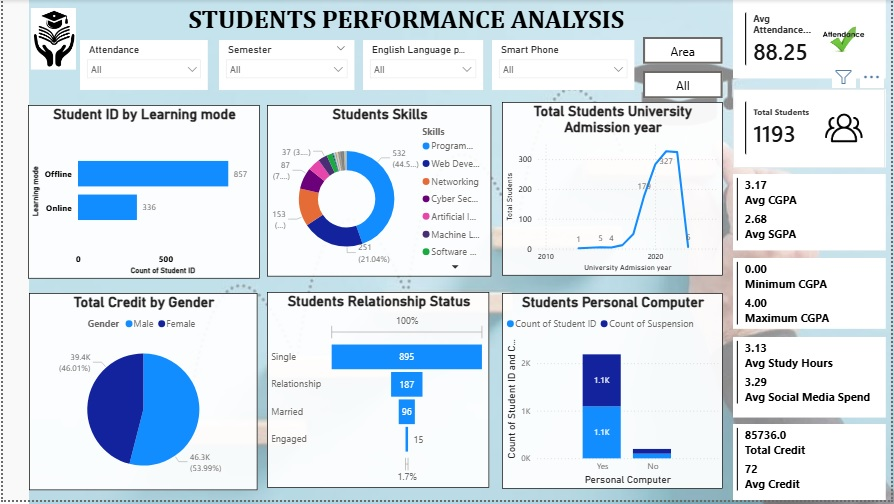

What the dashboard file says about the page in this screenshot:
{"tool":"powerbi","page":{"name":"Dashboard","canvas":[1280,720],"ordinal":3},"visuals":[{"type":"textbox","box":[262.1,0,682.6,57.6],"z":0},{"type":"image","box":[23.4,11.7,99.5,89.3],"z":1000},{"type":"multiRowCard","fields":{"Values":["Measure.Avg CGPA","Measure.Avg SGPA"]},"box":[1050.7,250.2,219.5,109.8],"z":2000},{"type":"multiRowCard","fields":{"Values":["Measure.Total Credit","Measure.Avg Credit"]},"box":[1050.7,610.2,219.5,109.8],"z":3000},{"type":"multiRowCard","fields":{"Values":["Measure.Minimum CGPA","Measure.Maximum CGPA"]},"box":[1050.7,371.7,219.5,102.4],"z":4000},{"type":"multiRowCard","fields":{"Values":["Measure.Avg Study Hours","Measure.Avg Social Media Spend"]},"box":[1050.7,485.9,219.5,115.6],"z":5000},{"type":"cardVisual","fields":{"Data":["Measure.Avg Attendance Percentage","Measure.Avg Attendance Percentage"]},"box":[1050.7,0,219.5,112.7],"z":6000},{"type":"cardVisual","fields":{"Data":["Measure.Total Students"]},"box":[1050.7,128.8,219.5,112.7],"z":7000},{"type":"slicer","fields":{"Values":["StudentsData.Average Attendance "]},"box":[111.2,57.1,184.4,71.7],"z":14000},{"type":"slicer","fields":{"Values":["StudentsData.Current Semester"]},"box":[311.7,57.1,194.6,71.7],"z":15000},{"type":"slicer","fields":{"Values":["StudentsData.English Language proficiency"]},"box":[518,57.1,172.7,71.7],"z":16000},{"type":"slicer","fields":{"Values":["StudentsData.Smart Phone"]},"box":[703.9,57.1,204.9,71.7],"z":17000},{"type":"actionButton","box":[921.3,53.6,114.6,38.7],"z":18000},{"type":"columnChart","title":"Students by Interested Area","fields":{"Category":["StudentsData.Interested Area"],"Y":["CountNonNull(StudentsData.Student ID)"]},"box":[251.2,229,640.9,340.1],"z":19000},{"type":"actionButton","box":[921.5,102.2,114.7,39.4],"z":20000}]}

Visuals, with their boxes in screenshot pixels (x1, y1, x2, y2), scaled from the page's 1280x720 canvas onto the 894x504 screenshot:
textbox: bbox=[183, 0, 660, 40]
image: bbox=[16, 8, 86, 71]
multiRowCard - Measure.Avg CGPA x Measure.Avg SGPA: bbox=[734, 175, 887, 252]
multiRowCard - Measure.Total Credit x Measure.Avg Credit: bbox=[734, 427, 887, 503]
multiRowCard - Measure.Minimum CGPA x Measure.Maximum CGPA: bbox=[734, 260, 887, 332]
multiRowCard - Measure.Avg Study Hours x Measure.Avg Social Media Spend: bbox=[734, 340, 887, 421]
cardVisual - Measure.Avg Attendance Percentage x Measure.Avg Attendance Percentage: bbox=[734, 0, 887, 79]
cardVisual - Measure.Total Students: bbox=[734, 90, 887, 169]
slicer - StudentsData.Average Attendance : bbox=[78, 40, 206, 90]
slicer - StudentsData.Current Semester: bbox=[218, 40, 354, 90]
slicer - StudentsData.English Language proficiency: bbox=[362, 40, 482, 90]
slicer - StudentsData.Smart Phone: bbox=[492, 40, 635, 90]
actionButton: bbox=[643, 38, 724, 65]
"Students by Interested Area" columnChart: bbox=[175, 160, 623, 398]
actionButton: bbox=[644, 72, 724, 99]
